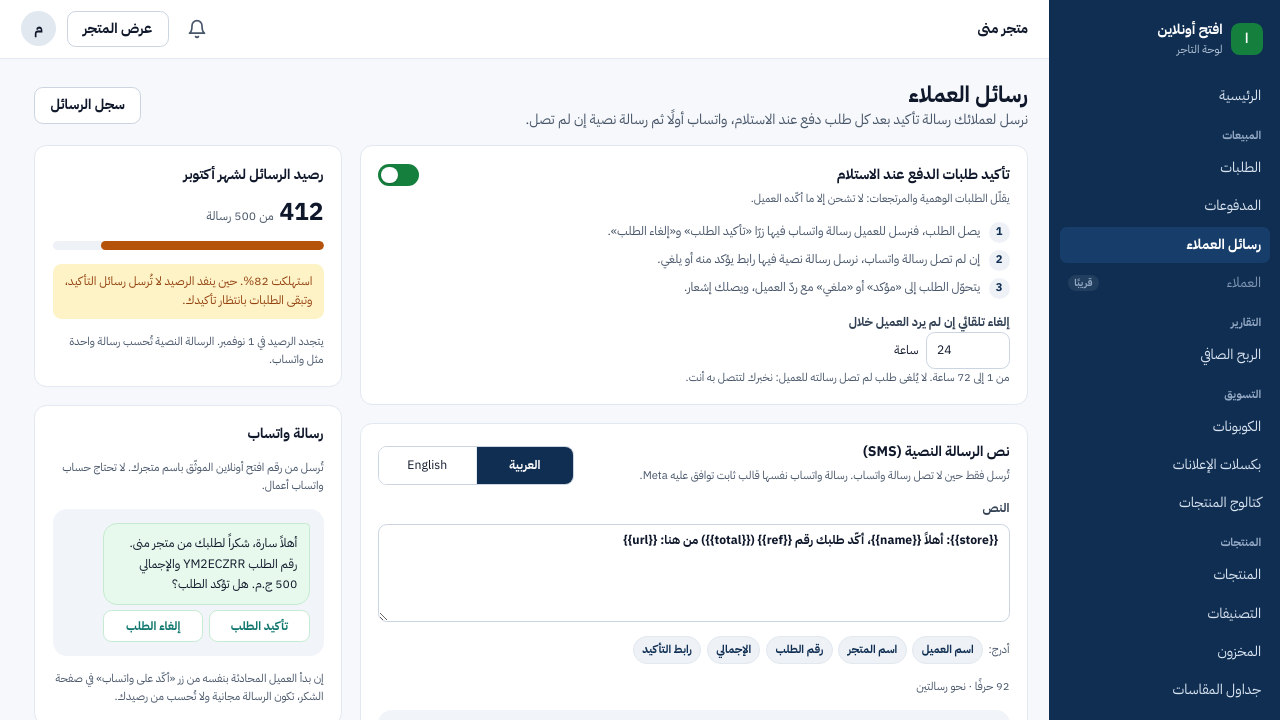
Test: Messages › turns confirmation off and on, and saves the auto-cancel hours on leaving the field
Replace the text in the number field labelled "إلغاء تلقائي إن لم يرد العميل خلال" with "100": coordinates (968, 351) x1=926 y1=332 x2=1010 y2=369
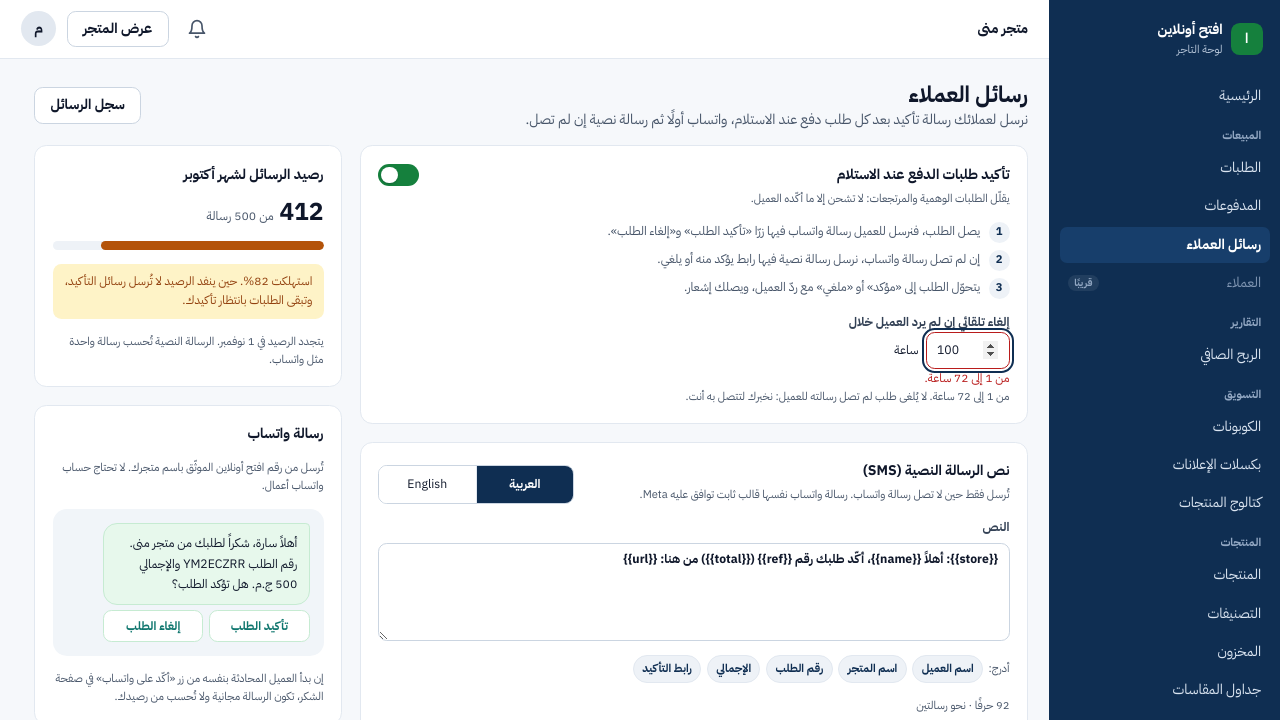
Press Tab
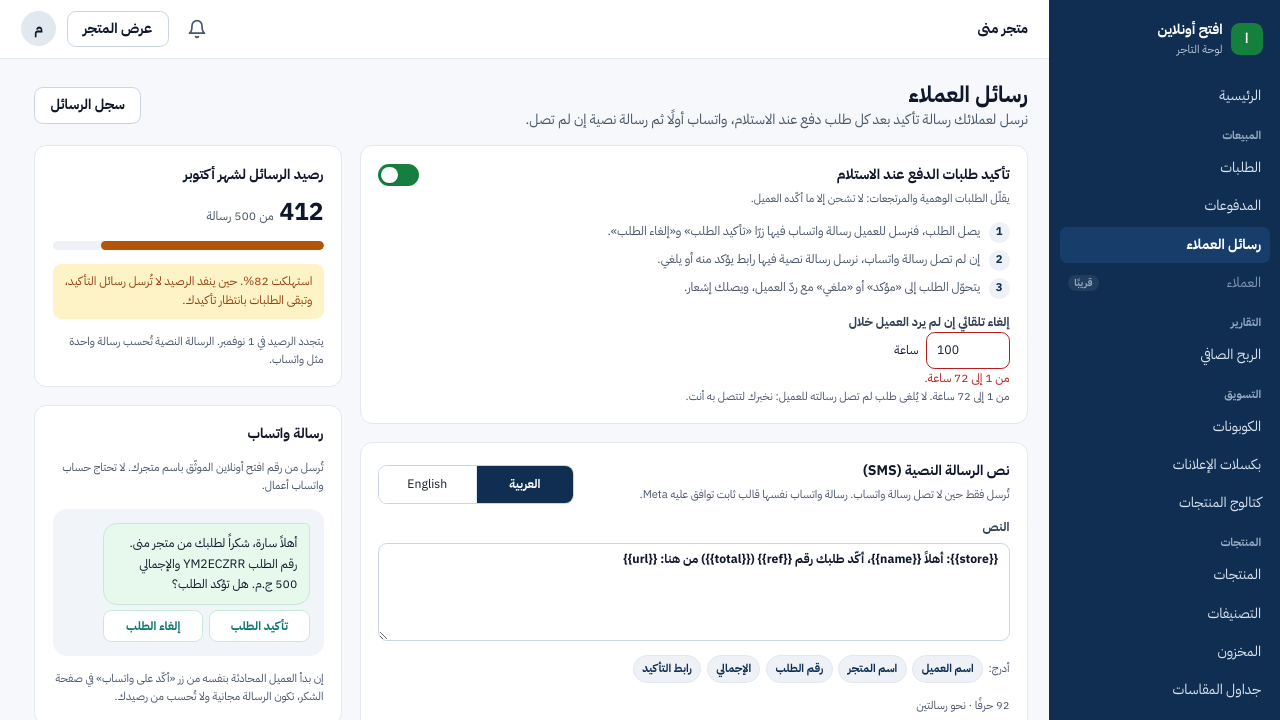
Now the text "من 1 إلى 72 ساعة." is shown, box x1=925 y1=369 x2=1010 y2=387
Replace the text in the number field labelled "إلغاء تلقائي إن لم يرد العميل خلال" with "12": coordinates (968, 351) x1=926 y1=332 x2=1010 y2=369
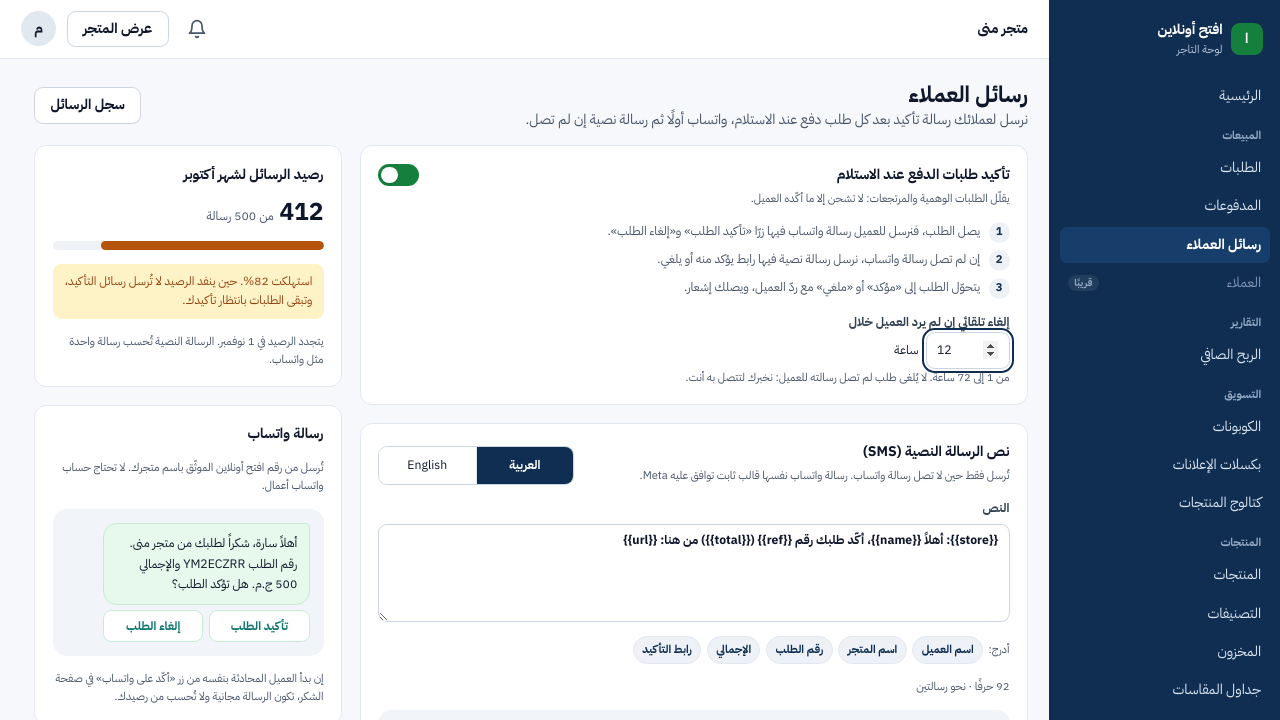
Press Tab
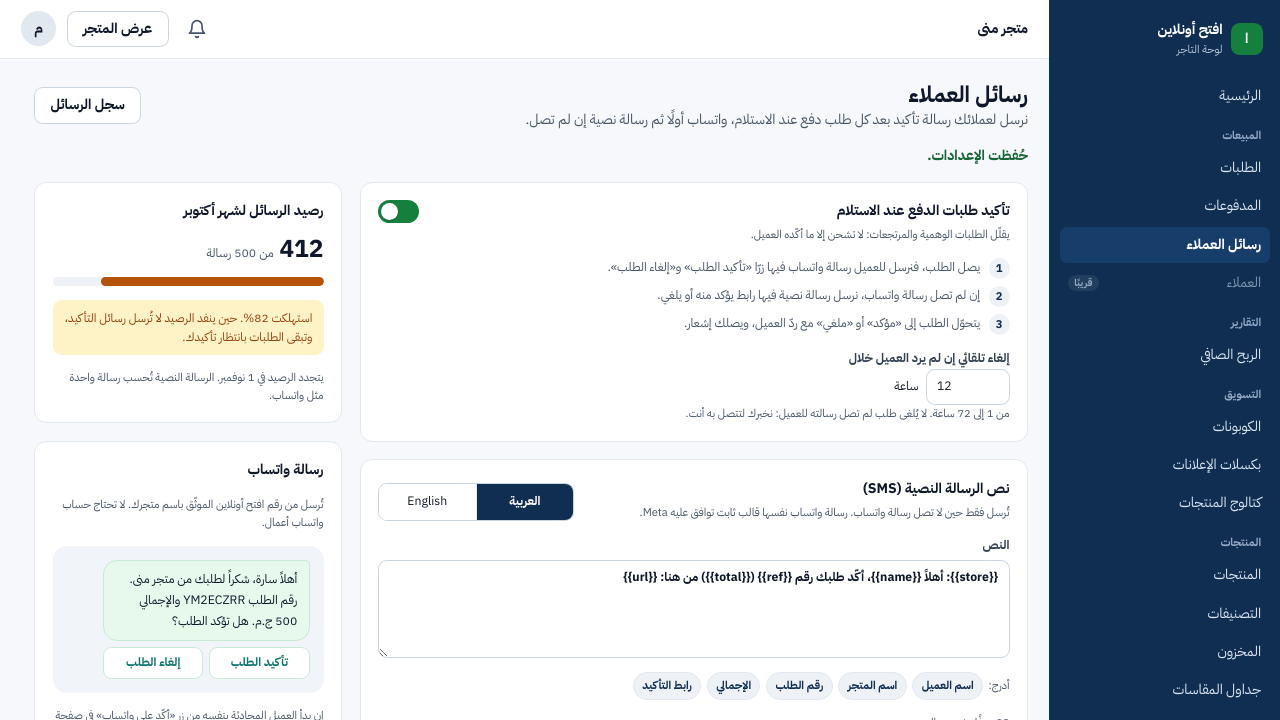
Now the text "حُفظت الإعدادات." is shown, box x1=927 y1=145 x2=1028 y2=166
Click the button named "تأكيد طلبات الدفع عند الاستلام": coordinates (398, 211) x1=378 y1=200 x2=419 y2=223
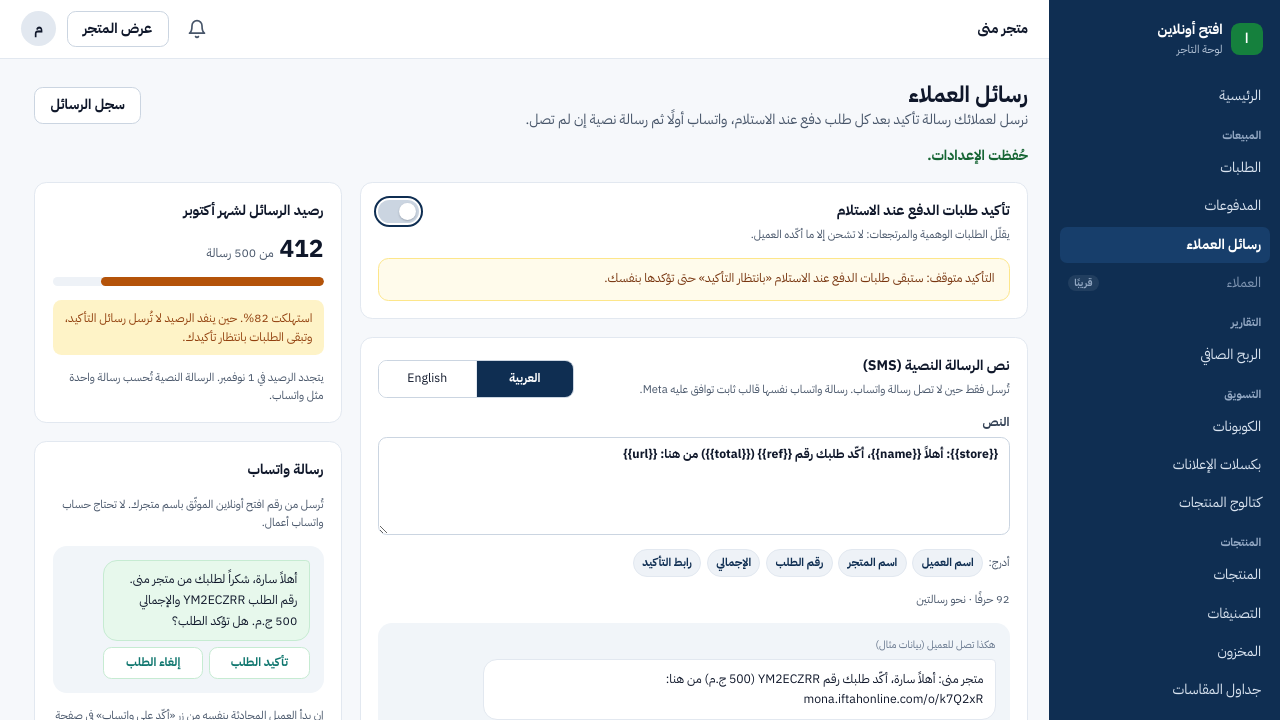
Now the text "التأكيد متوقف" is shown, box x1=604 y1=270 x2=994 y2=288
Now the label labelled "إلغاء تلقائي إن لم يرد العميل خلال" is gone
